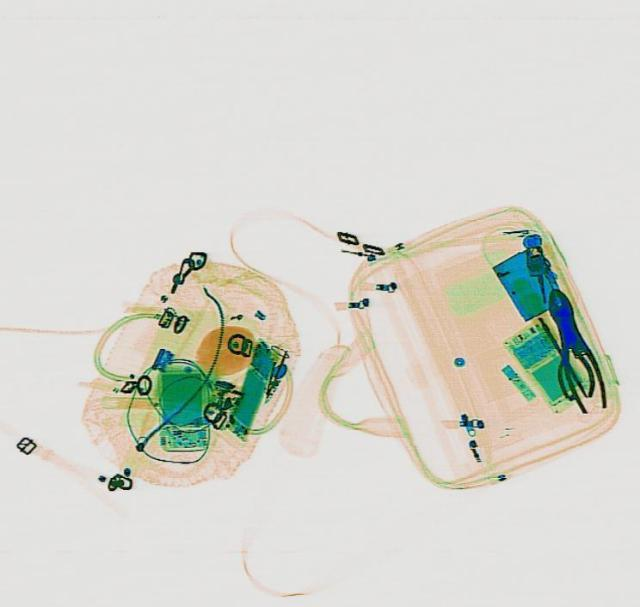Pliers: (534, 283, 612, 412), (535, 316, 601, 400)
